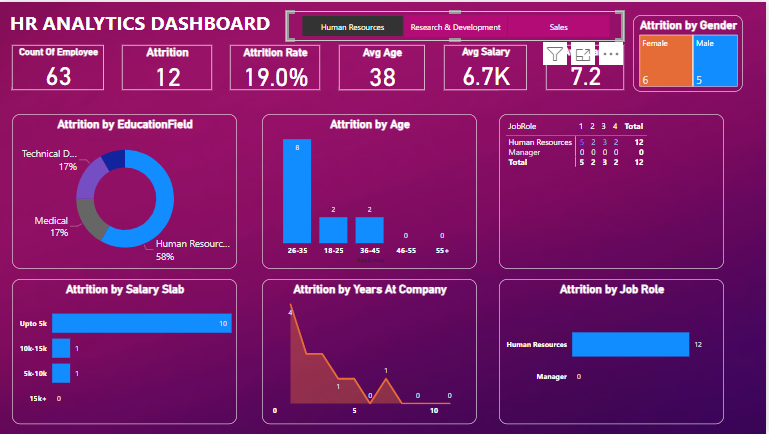

What the dashboard file says about the page in this screenshot:
{"tool":"powerbi","page":{"name":"Page 1","canvas":[1280,720],"ordinal":0},"visuals":[{"type":"card","title":"Count Of Employee","fields":{"Values":["CountNonNull(HR_Analytics.EmpID)"]},"box":[23.3,71.7,153.3,75],"z":0},{"type":"card","title":"Attrition","fields":{"Values":["Sum(HR_Analytics.AttritionCount)"]},"box":[206.7,71.7,150,75],"z":1000},{"type":"card","title":"Attrition Rate","fields":{"Values":["HR_Analytics.AttritionRate"]},"box":[386.7,71.7,150,75],"z":2000},{"type":"card","title":"Avg Age","fields":{"Values":["Avg(HR_Analytics.Age)"]},"box":[568.3,71.7,143.3,75],"z":3000},{"type":"card","title":"Avg Salary","fields":{"Values":["Avg(HR_Analytics.MonthlyIncome)"]},"box":[743.3,71.7,138.3,75],"z":4000},{"type":"card","title":"Avg Years","fields":{"Values":["Avg(HR_Analytics.YearsAtCompany)"]},"box":[913.3,71.7,130,75],"z":5000},{"type":"donutChart","title":"Attrition by EducationField","fields":{"Category":["HR_Analytics.EducationField"],"Y":["Sum(HR_Analytics.AttritionCount)"]},"box":[23.3,186.7,375,258.3],"z":6000},{"type":"columnChart","title":"Attrition by Age","fields":{"Category":["HR_Analytics.AgeGroup"],"Y":["Sum(HR_Analytics.AttritionCount)"]},"box":[440,186.7,358.3,258.3],"z":7000},{"type":"pivotTable","fields":{"Rows":["HR_Analytics.JobRole"],"Columns":["HR_Analytics.JobSatisfaction"],"Values":["Sum(HR_Analytics.AttritionCount)"]},"box":[835,186.7,375,258.3],"z":8000},{"type":"barChart","title":"Attrition by Salary Slab","fields":{"Category":["HR_Analytics.SalarySlab"],"Y":["Sum(HR_Analytics.AttritionCount)"]},"box":[23.3,461.7,375,241.7],"z":9000},{"type":"barChart","title":"Attrition by Job Role","fields":{"Y":["Sum(HR_Analytics.AttritionCount)"],"Category":["HR_Analytics.JobRole"]},"box":[835,461.7,375,241.7],"z":10000},{"type":"areaChart","title":"Attrition by Years At Company","fields":{"Category":["HR_Analytics.YearsAtCompany"],"Y":["Sum(HR_Analytics.AttritionCount)"]},"box":[440,461.7,358.3,241.7],"z":11000},{"type":"treemap","title":"Attrition by Gender","fields":{"Group":["HR_Analytics.Gender"],"Values":["Sum(HR_Analytics.AttritionCount)"]},"box":[1058.3,21.7,183.3,128.3],"z":12000},{"type":"textbox","box":[15,6.7,468.3,58.3],"z":14000},{"type":"slicer","fields":{"Values":["HR_Analytics.Department"]},"box":[480,15,563.3,50],"z":14001}]}

Visuals, with their boxes in screenshot pixels (x1, y1, x2, y2), scaled from the page's 1280x720 canvas onto the 769x434 screenshot:
"Count Of Employee" card: <bbox>14, 43, 106, 88</bbox>
"Attrition" card: <bbox>124, 43, 214, 88</bbox>
"Attrition Rate" card: <bbox>232, 43, 322, 88</bbox>
"Avg Age" card: <bbox>341, 43, 428, 88</bbox>
"Avg Salary" card: <bbox>447, 43, 530, 88</bbox>
"Avg Years" card: <bbox>549, 43, 627, 88</bbox>
"Attrition by EducationField" donutChart: <bbox>14, 113, 239, 268</bbox>
"Attrition by Age" columnChart: <bbox>264, 113, 480, 268</bbox>
pivotTable - HR_Analytics.JobRole x HR_Analytics.JobSatisfaction: <bbox>502, 113, 727, 268</bbox>
"Attrition by Salary Slab" barChart: <bbox>14, 278, 239, 424</bbox>
"Attrition by Job Role" barChart: <bbox>502, 278, 727, 424</bbox>
"Attrition by Years At Company" areaChart: <bbox>264, 278, 480, 424</bbox>
"Attrition by Gender" treemap: <bbox>636, 13, 746, 90</bbox>
textbox: <bbox>9, 4, 290, 39</bbox>
slicer - HR_Analytics.Department: <bbox>288, 9, 627, 39</bbox>
